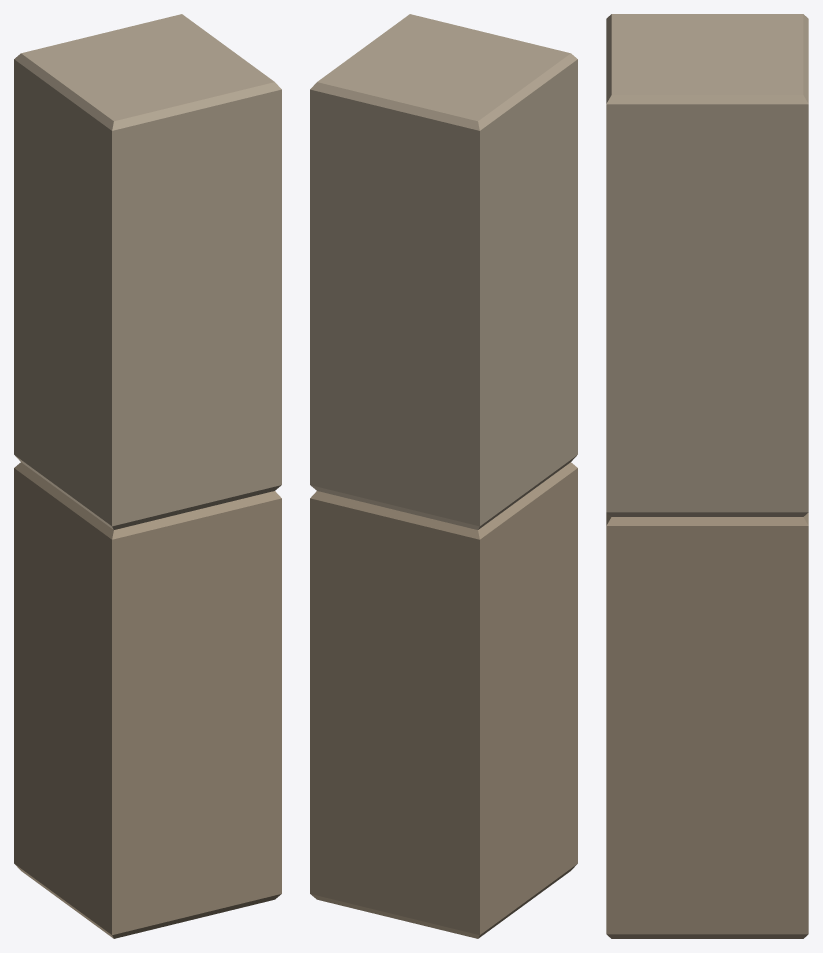
Rendered from Pillar_Exterior_01.glb.
3 views of the same model, side by side, from view 1: azimuth 30°, elevation 25°; view 2: azimuth 150°, elevation 25°; view 3: azimuth 270°, elevation 25° (orthographic). The views are drawn at different scales.
Visible parts, largest first — view 1: SM_Env_Pillar_Exterior_01; view 2: SM_Env_Pillar_Exterior_01; view 3: SM_Env_Pillar_Exterior_01.
Part boxes in pixels (x1,y1,x2,y2): SM_Env_Pillar_Exterior_01: [14, 14, 281, 938]; SM_Env_Pillar_Exterior_01: [310, 14, 577, 938]; SM_Env_Pillar_Exterior_01: [606, 14, 808, 938].
Bounding box in the file's own units: 0.652 × 3 × 0.652.
1 material, 1 textured.
